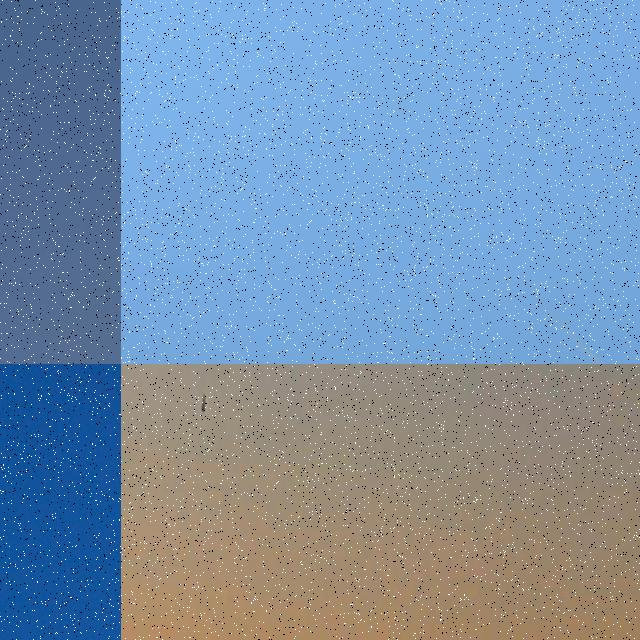Rocket: (201, 394, 206, 412), (451, 212, 458, 219)
